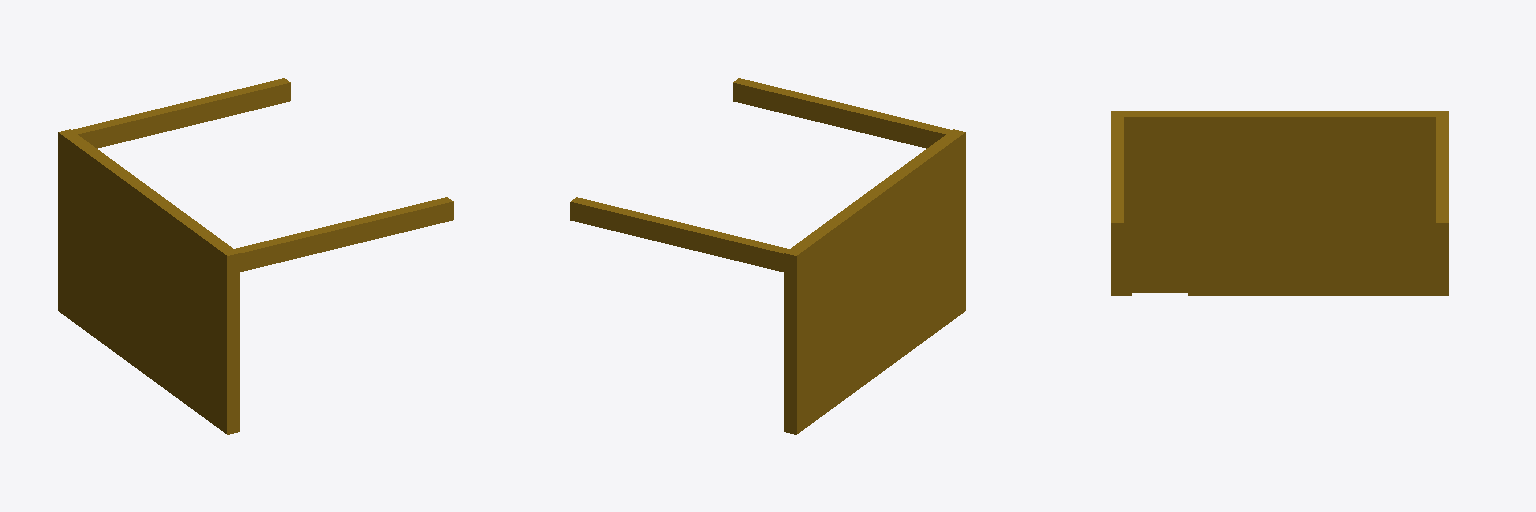
The model's file is wall2.obj.
The picture shows the model from 3 angles: view 1: azimuth 30°, elevation 25°; view 2: azimuth 150°, elevation 25°; view 3: azimuth 270°, elevation 25°; orthographic projection.
Visible parts, largest first — view 1: Cube.013_Cube.010, Cube.013_Cube.008, Cube.013_Cube.009; view 2: Cube.013_Cube.010, Cube.013_Cube.009, Cube.013_Cube.008; view 3: Cube.013_Cube.010, Cube.013_Cube.008, Cube.013_Cube.009.
Part boxes in pixels (bbox=[...]): Cube.013_Cube.010: bbox=[58, 129, 239, 434]; Cube.013_Cube.008: bbox=[235, 197, 453, 271]; Cube.013_Cube.009: bbox=[72, 78, 290, 148]; Cube.013_Cube.010: bbox=[784, 129, 965, 434]; Cube.013_Cube.009: bbox=[570, 197, 788, 271]; Cube.013_Cube.008: bbox=[733, 78, 951, 148]; Cube.013_Cube.010: bbox=[1111, 111, 1448, 295]; Cube.013_Cube.008: bbox=[1111, 117, 1123, 240]; Cube.013_Cube.009: bbox=[1436, 117, 1448, 240].
Bounding box in the file's own units: 3.71 × 2.8 × 4.8.